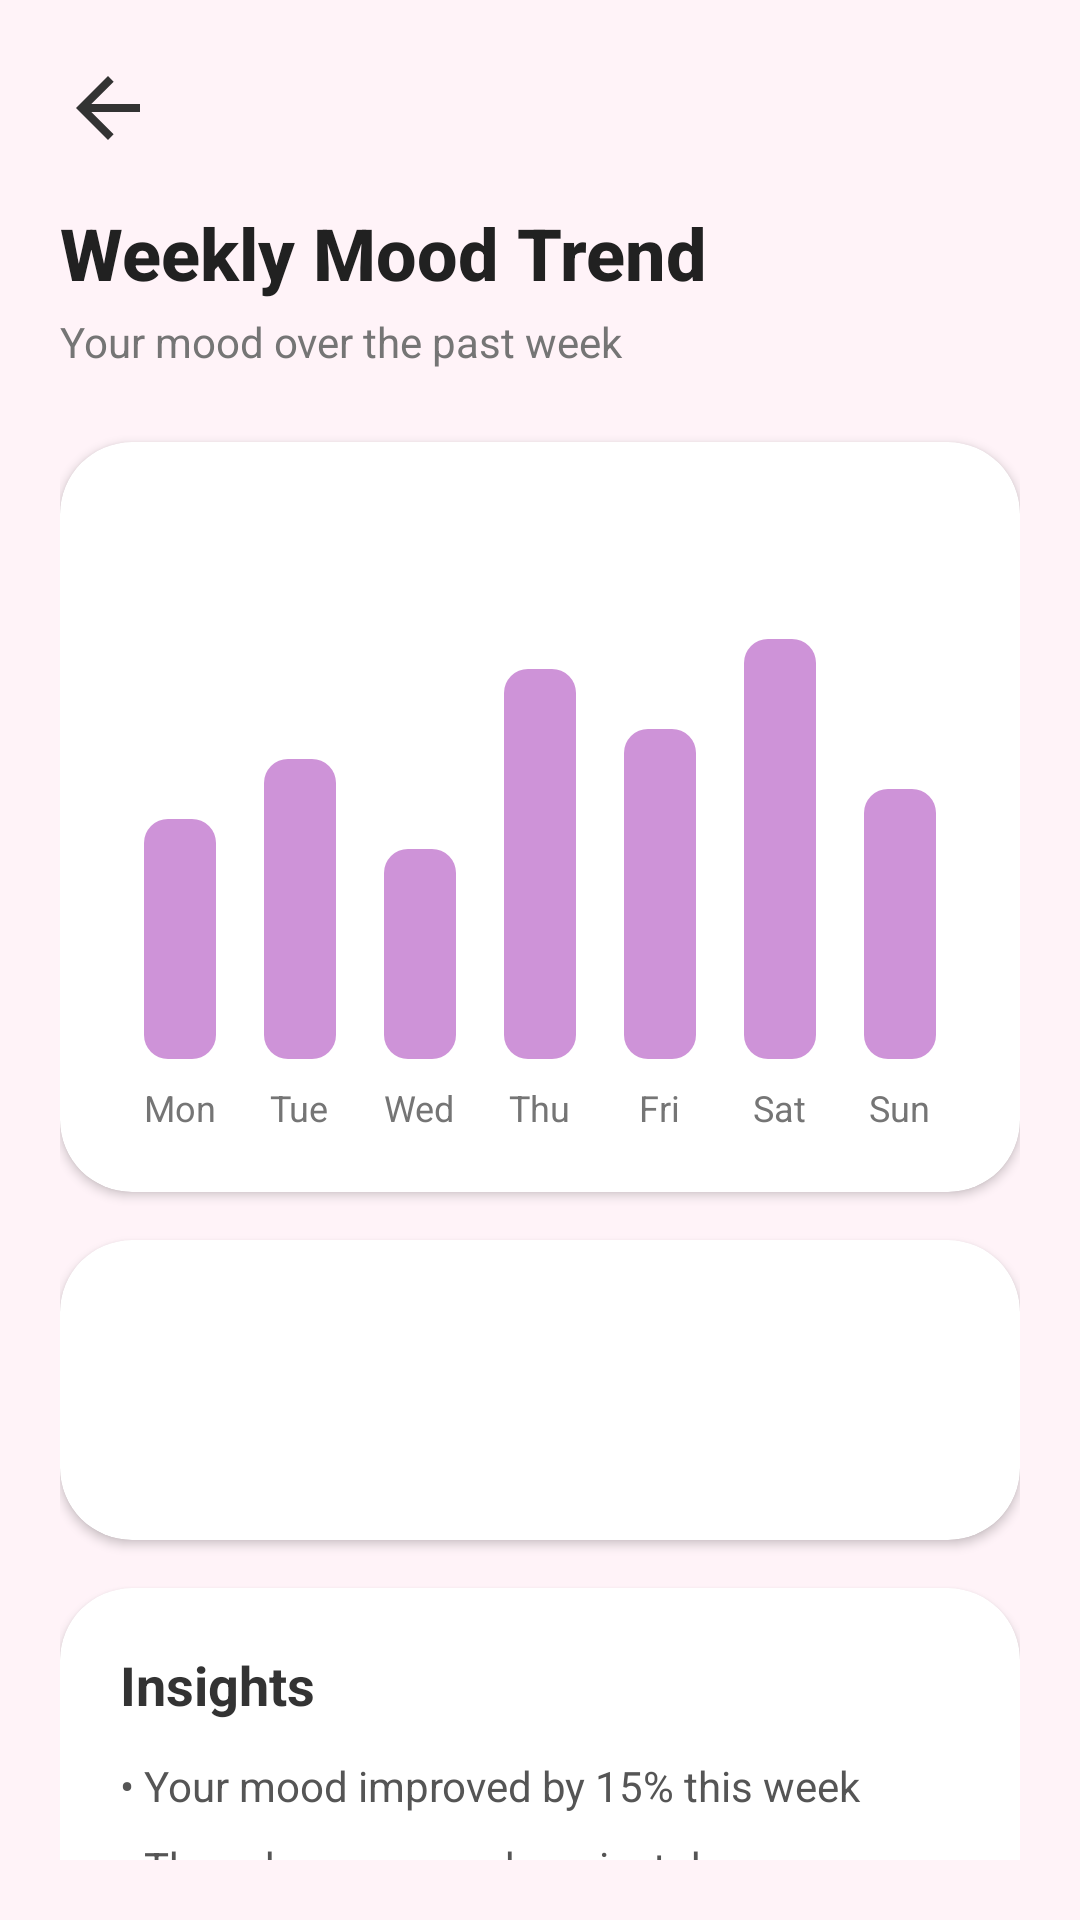

Screen size 1080w x 1920h. Icon name, then its box in pixels as (x1, y1, x2, y2):
arrow back: (76, 76, 140, 140)
